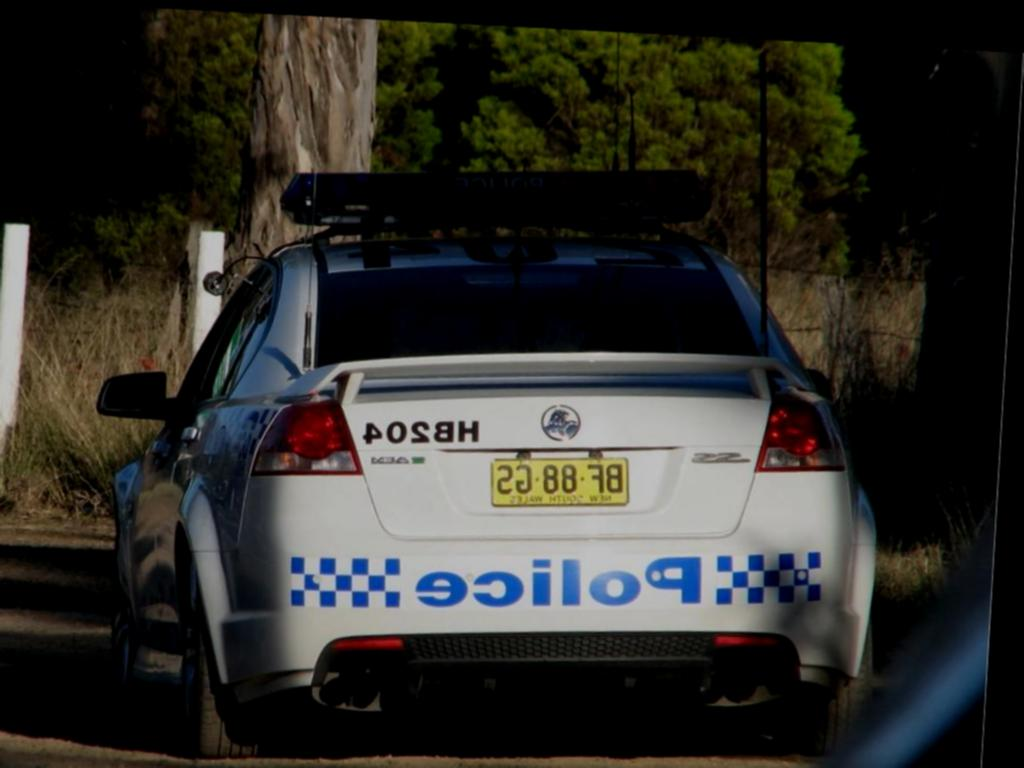License_Plate: (488, 455, 633, 513)
